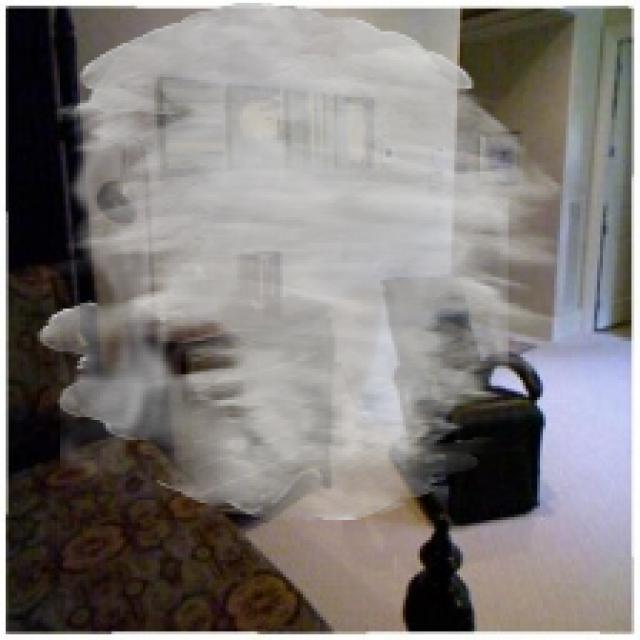Smoke: (37, 3, 572, 523)
